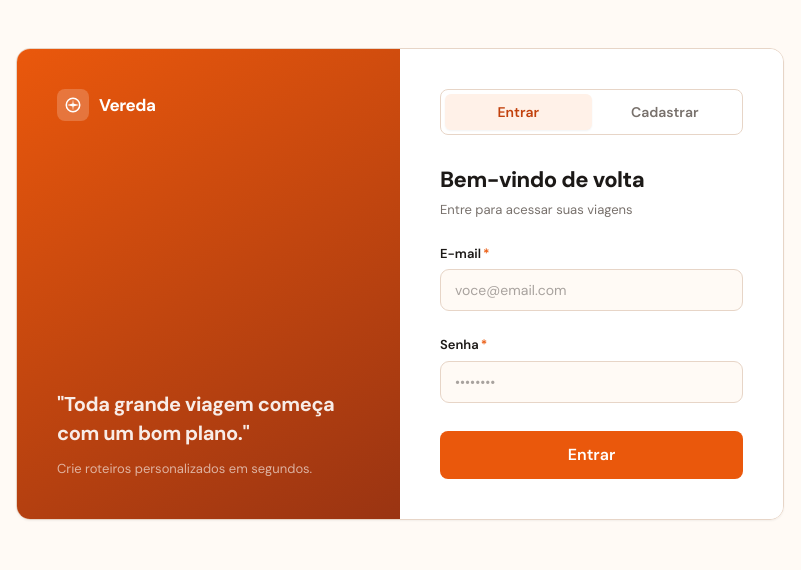
Scenario: Auth page › shows error on failed login
The width and height of the screenshot is (801, 570).
Type "bad@test.com" into the field named "e-mail".
click(592, 290); type("bad@test.com")  # box [440,269,743,311]
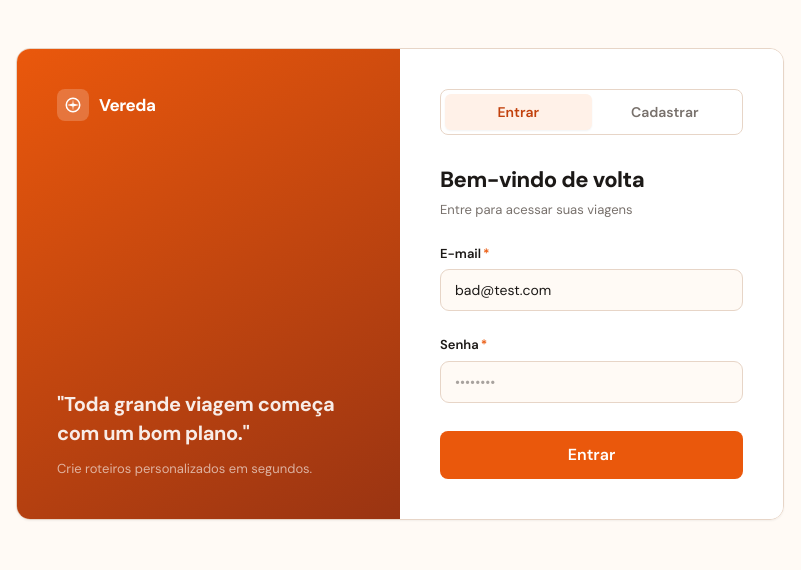
Type "wrong" into the password field named "senha".
click(592, 382); type("wrong")  # box [440,361,743,403]
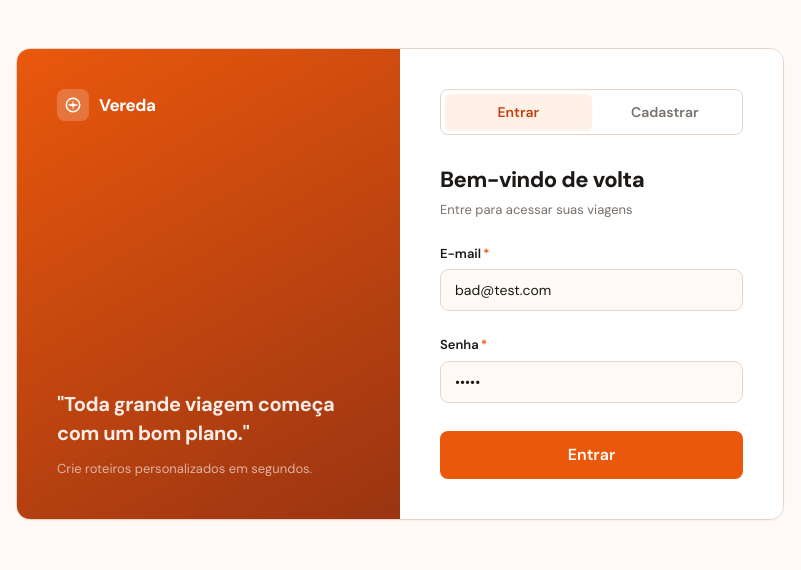
Click the button "Entrar".
click(592, 455)  # box [440,431,743,479]
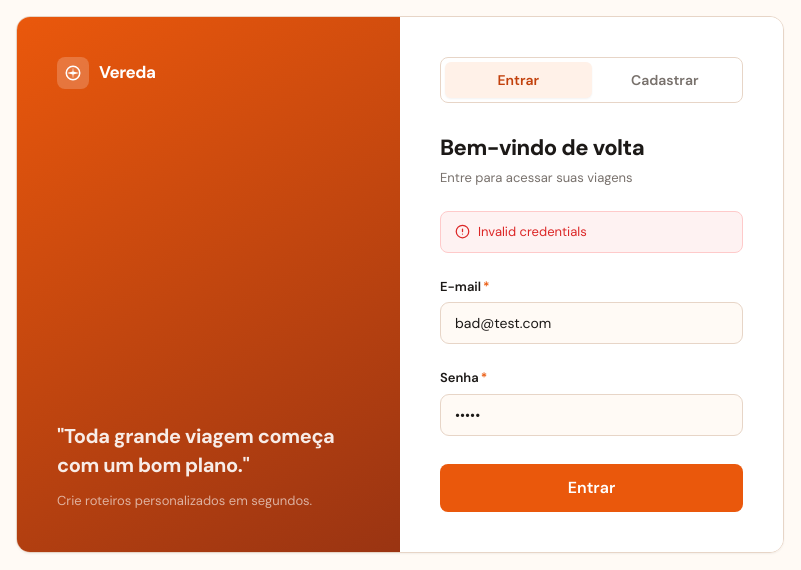
Expected: the text "Invalid credentials" is shown, [478,222,587,242]
